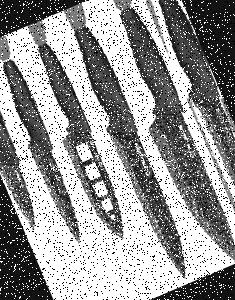knife: (56, 11, 206, 282), (103, 0, 235, 265), (18, 34, 140, 256), (147, 0, 235, 250), (0, 47, 97, 253), (0, 60, 57, 239)
